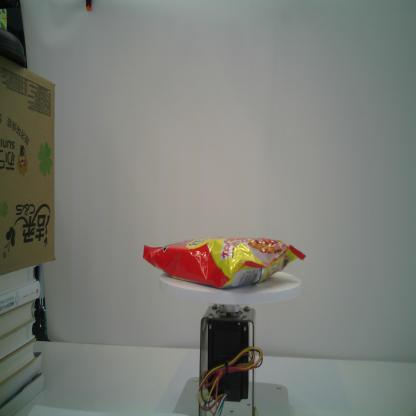Instant Noodles: (142, 234, 308, 290)
